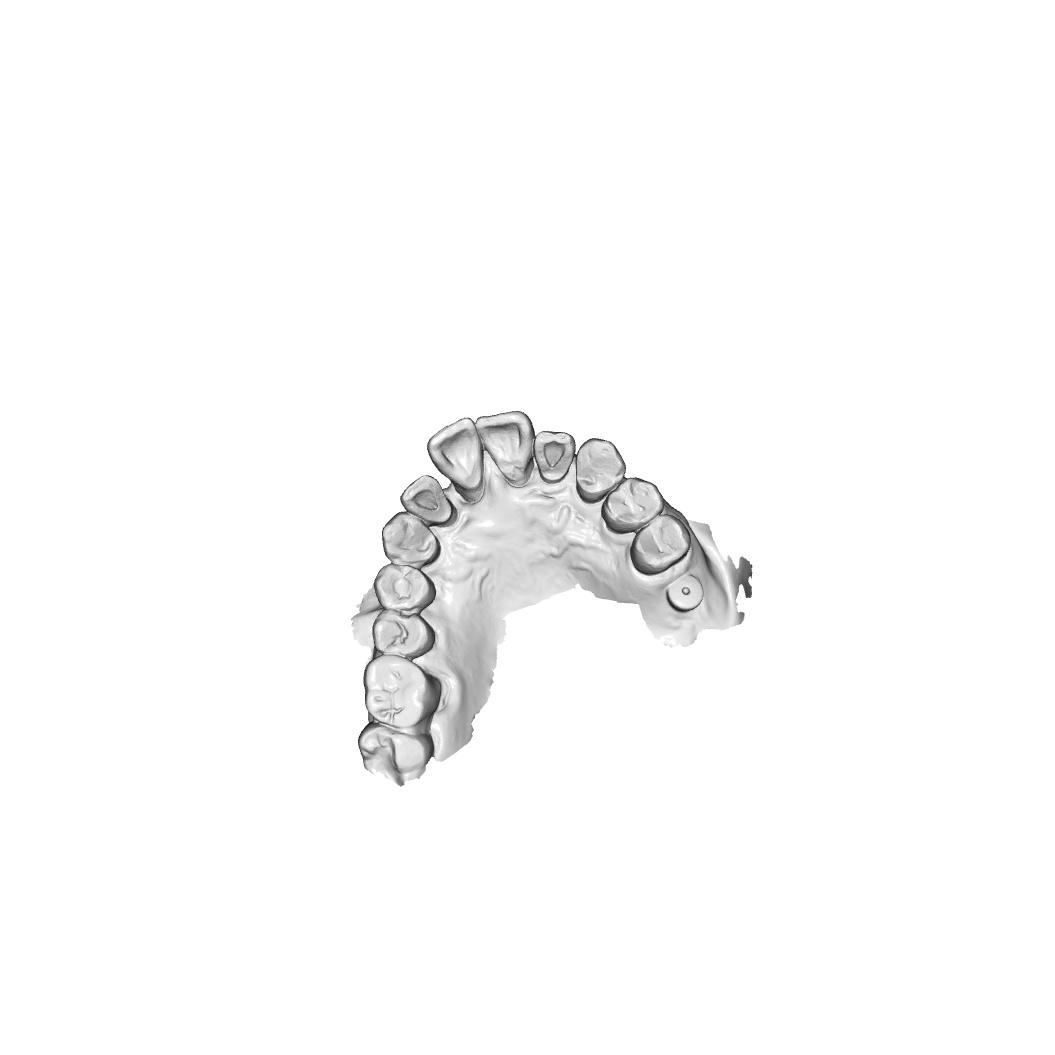canine: (574, 437, 627, 505), (381, 510, 441, 567)
implant: (666, 573, 704, 613)
incisor: (475, 410, 536, 488), (425, 416, 486, 493), (398, 473, 455, 527), (533, 428, 576, 485)
molar: (361, 653, 443, 729), (356, 720, 435, 786)
premolar: (629, 513, 691, 576), (600, 476, 666, 534), (372, 607, 437, 661), (373, 563, 437, 616)
